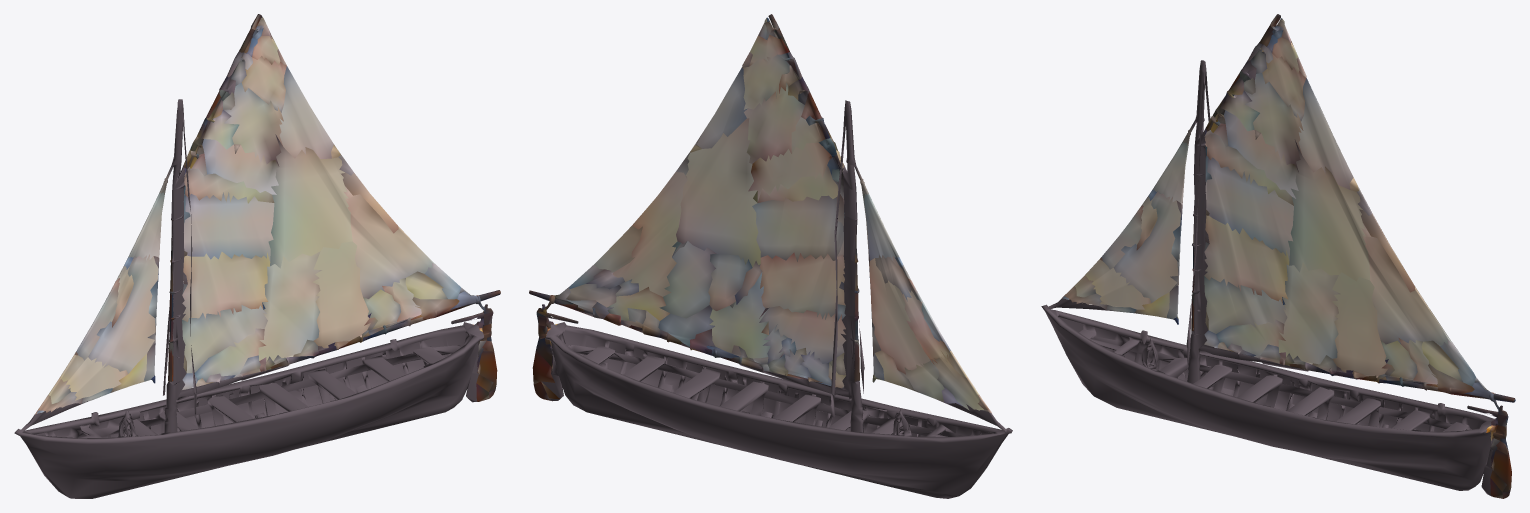
Rendered from baleeiro.glb.
The picture shows the model from 3 angles, left to right: view 1: azimuth 30°, elevation 25°; view 2: azimuth 150°, elevation 25°; view 3: azimuth 330°, elevation 25°; orthographic projection. The views are drawn at different scales.
Visible parts, largest first — view 1: Vela, lite_static, Bujarrona, Leme; view 2: Vela, lite_static, Bujarrona, Leme; view 3: Vela, lite_static, Bujarrona, Leme.
Boxes of the visible parts, x1=… form: Vela: x1=182, y1=14, x2=478, y2=389; lite_static: x1=14, y1=99, x2=483, y2=498; Bujarrona: x1=35, y1=165, x2=174, y2=414; Leme: x1=473, y1=290, x2=500, y2=401; Vela: x1=549, y1=14, x2=846, y2=388; lite_static: x1=541, y1=100, x2=1012, y2=498; Bujarrona: x1=854, y1=166, x2=991, y2=412; Leme: x1=529, y1=290, x2=559, y2=401; Vela: x1=1204, y1=14, x2=1492, y2=413; lite_static: x1=1041, y1=60, x2=1496, y2=496; Bujarrona: x1=1061, y1=120, x2=1194, y2=330; Leme: x1=1486, y1=392, x2=1515, y2=498.
Bounding box in the file's own units: 12.21 × 10.68 × 1.98.
Materials: 2 (1 with a texture image).
